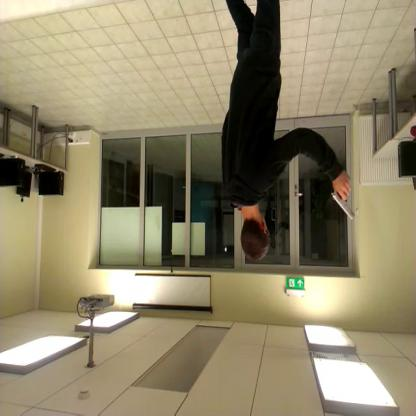Pistol: (322, 174, 364, 224)
